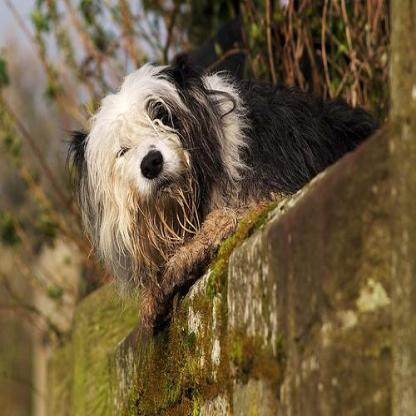Old_English_sheepdog: (73, 53, 374, 318)
